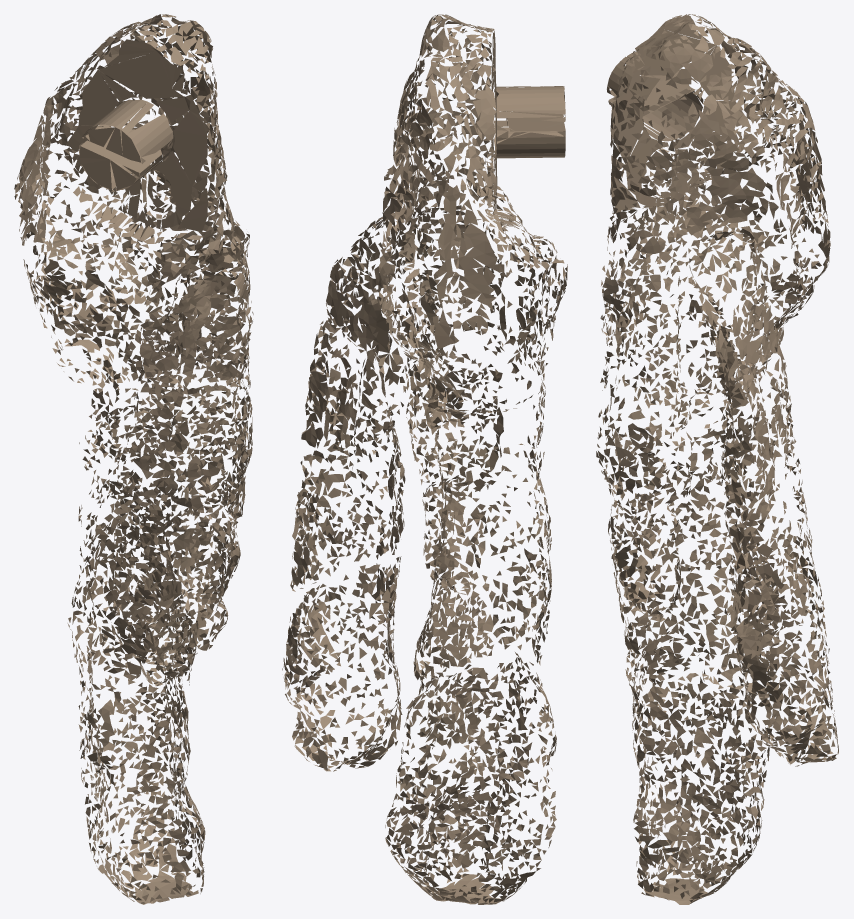
The model's file is rocky_pata_trasera_inferior.obj.
The picture shows the model from 3 angles, left to right: view 1: azimuth 30°, elevation 25°; view 2: azimuth 150°, elevation 25°; view 3: azimuth 270°, elevation 25°; orthographic projection.
Bounding box in the file's own units: 0.1212 × 0.4348 × 0.1094.
1 material, 1 textured.
